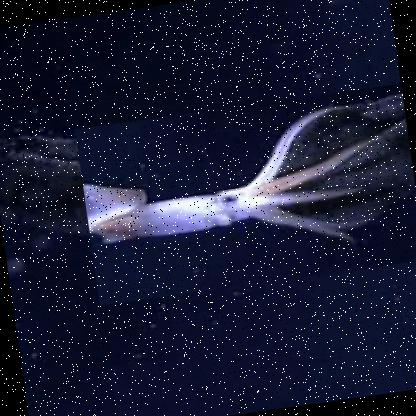colossal_squid: (72, 83, 415, 308)
